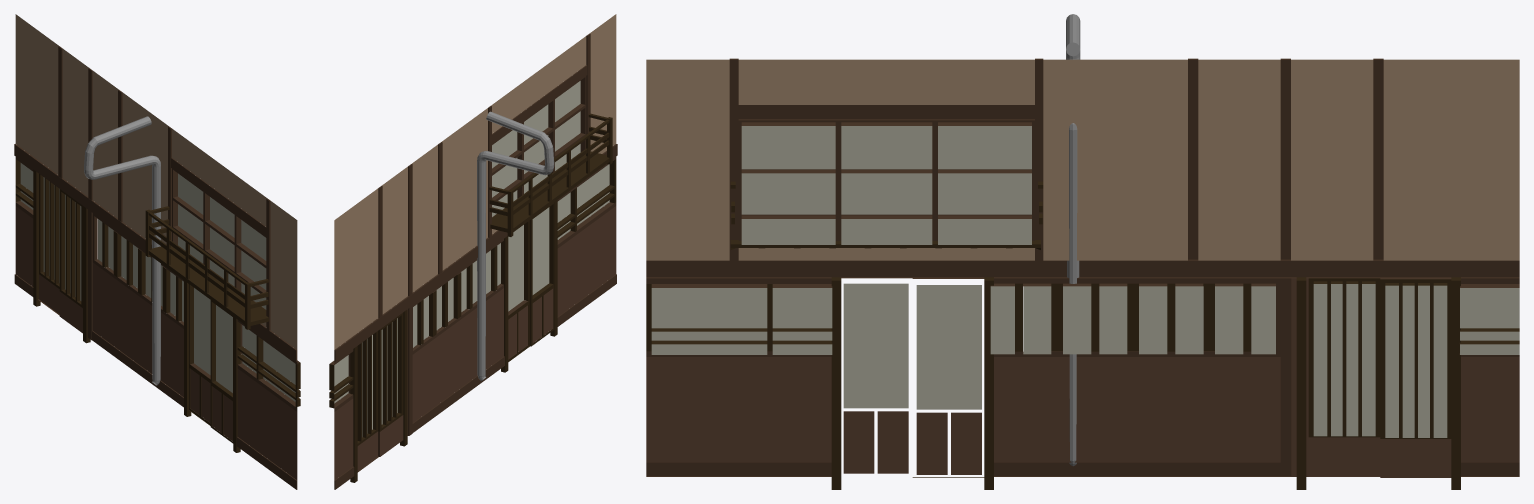
File: set_3_wall_R.glb
3 renders of one model, left to right at view 1: azimuth 30°, elevation 25°; view 2: azimuth 150°, elevation 25°; view 3: azimuth 270°, elevation 25°, orthographic. The views are drawn at different scales.
Parts seen in each view (by area): view 1: RightWall3; view 2: RightWall3; view 3: RightWall3.
Boxes of the visible parts, x1,y1,x2,y2 form: RightWall3: (14, 14, 300, 489); RightWall3: (329, 14, 617, 489); RightWall3: (646, 14, 1519, 489).
Bounding box in the file's own units: 1.85 × 6.22 × 11.26.
